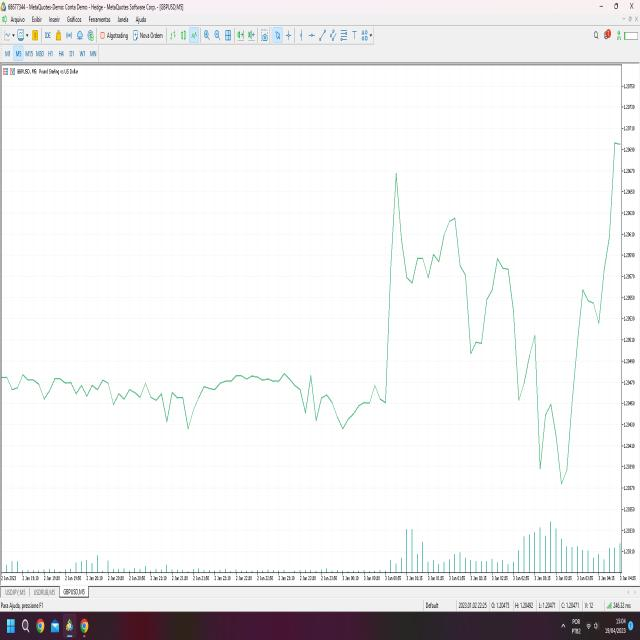fundo_duplo: (532, 375, 586, 500)
